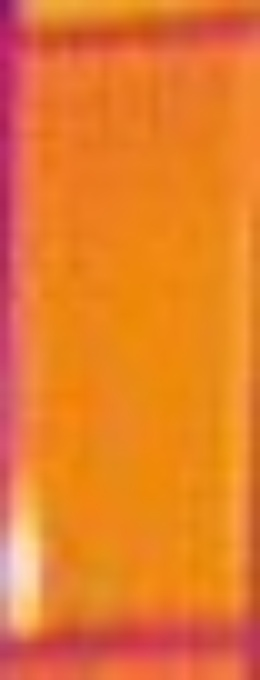Diode: (1, 455, 60, 643)
